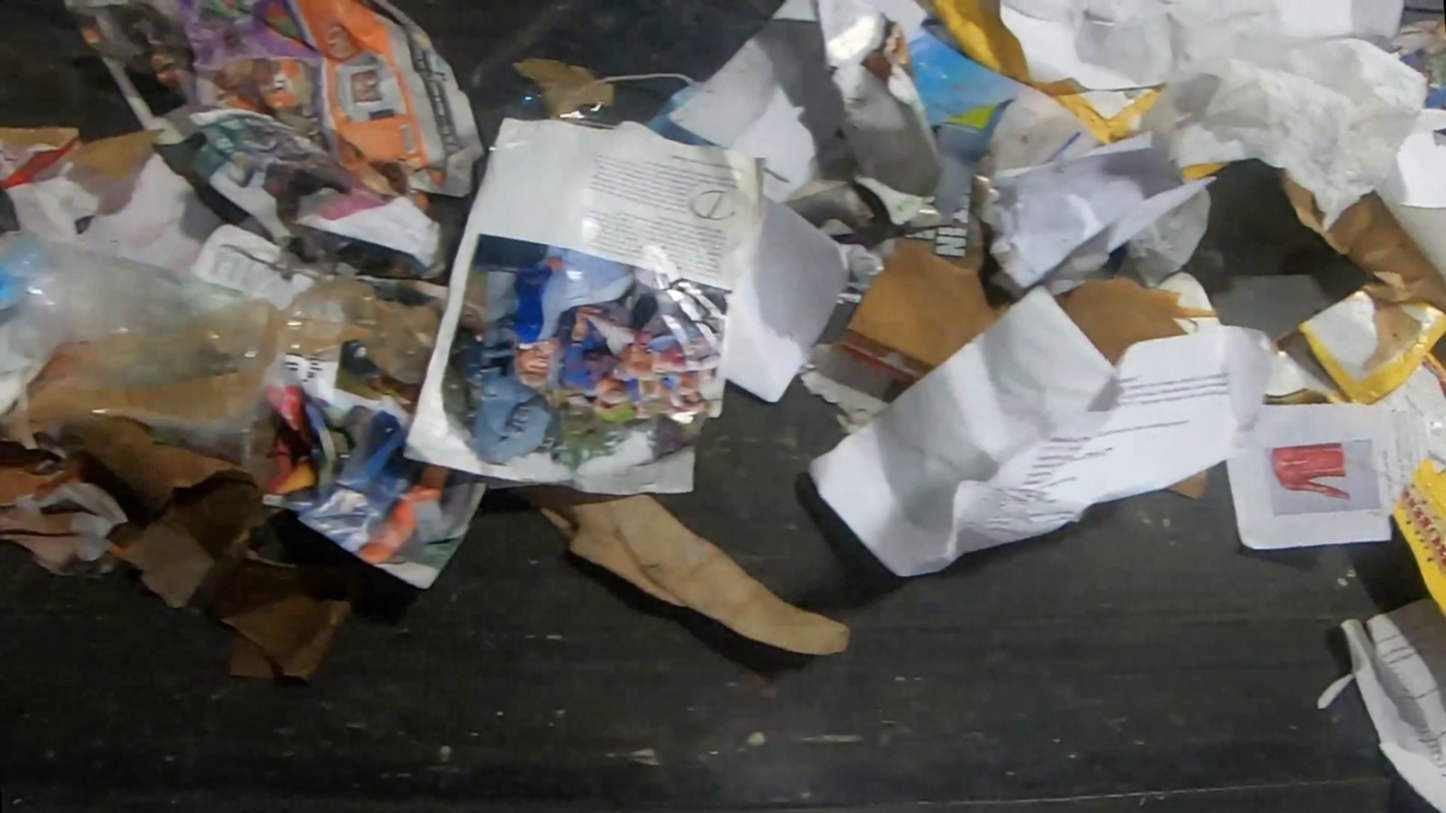cardboard: (1263, 289, 1446, 632), (501, 484, 854, 659), (812, 0, 1030, 227), (68, 418, 268, 621), (919, 0, 1162, 146), (1280, 167, 1446, 314), (0, 125, 166, 195), (1165, 469, 1207, 504)
plastic: (0, 228, 448, 493), (1139, 34, 1431, 232), (1107, 186, 1216, 290), (488, 80, 679, 129)
